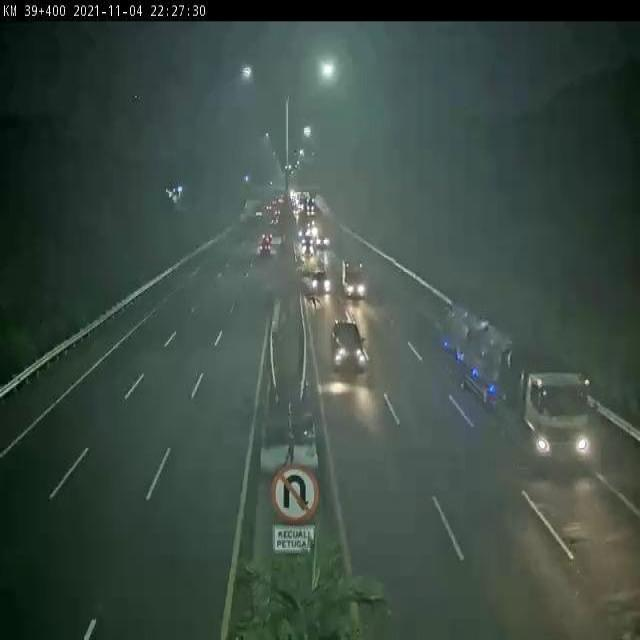Car: (328, 314, 374, 379), (306, 262, 330, 298)
Truck: (424, 293, 602, 463), (337, 249, 375, 302)
